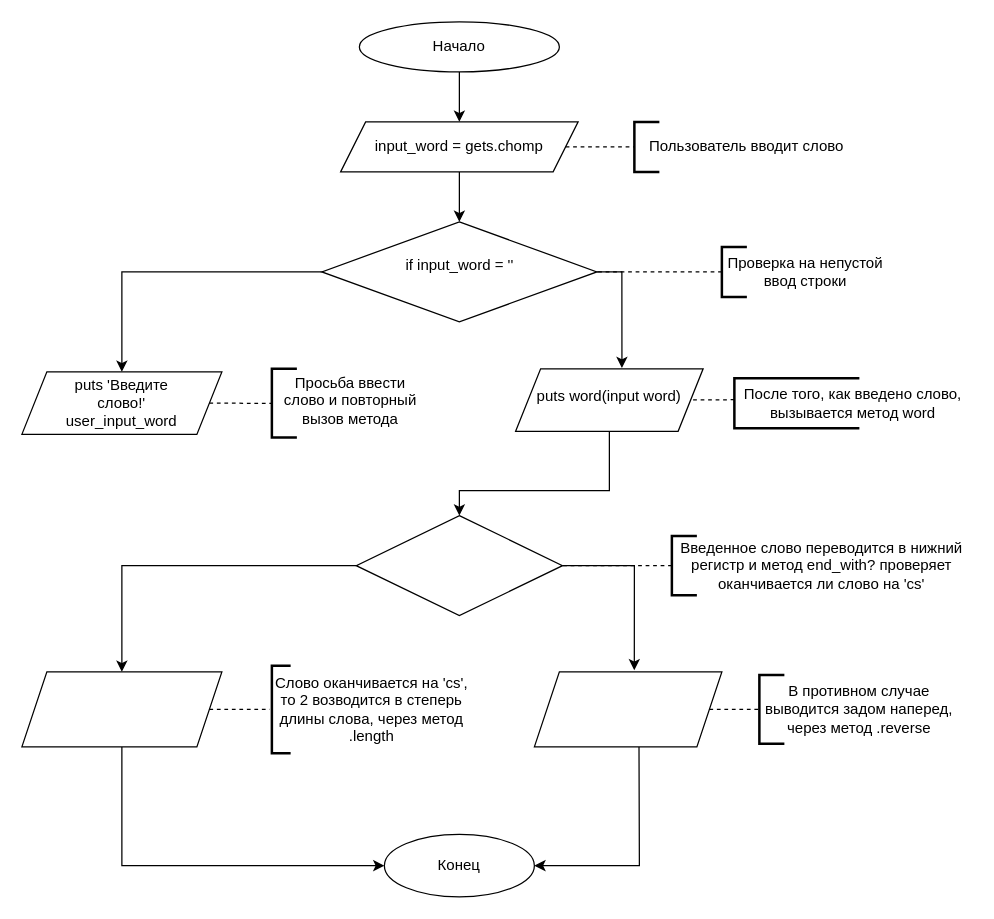
This 994x919 diagram has some shape labels left out. The shapes that lost their labels are listed below. From the top down, each one's centre as x and y in pixels, then its label:
point 458,565: def word(word1) word1.downcace.end_with?('cs')
point 121,709: 2 ** word1.length
point 627,709: word.reverse
